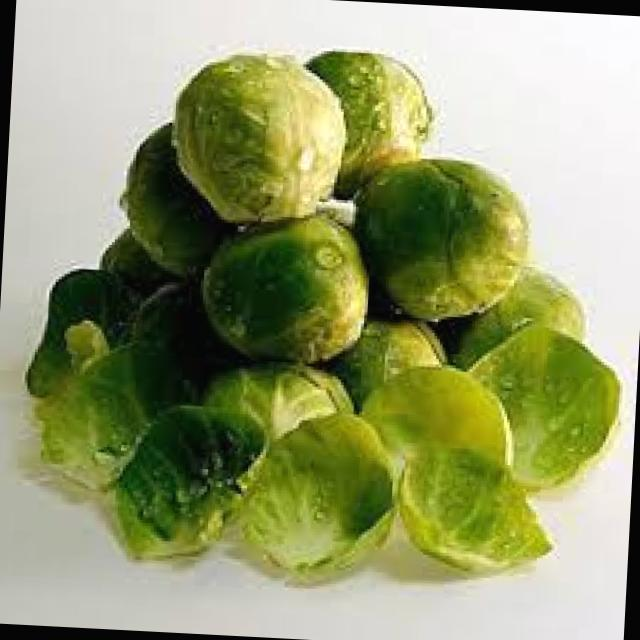organic: (9, 17, 608, 566)
